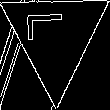L_E: (33, 21, 78, 54)
